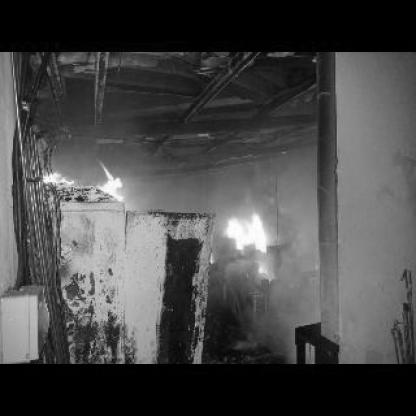fire: (224, 211, 265, 251), (92, 159, 125, 200), (42, 170, 74, 184), (258, 265, 268, 273), (211, 254, 213, 262)
